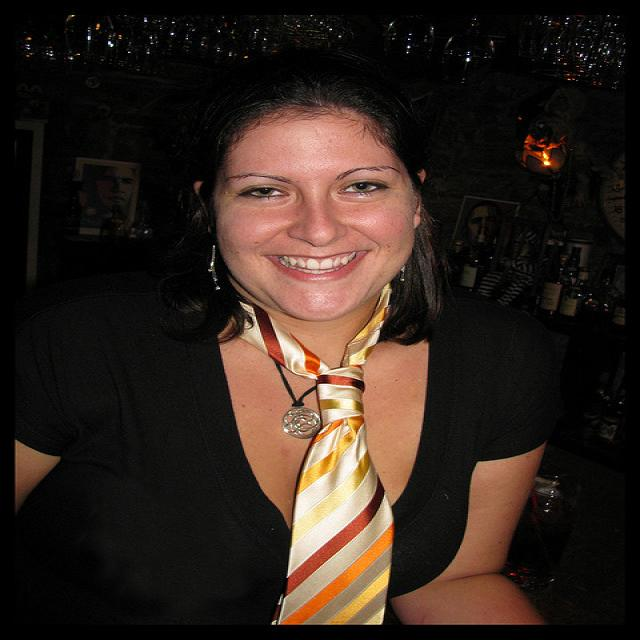Bottle: (446, 209, 520, 308), (585, 244, 640, 348), (530, 229, 590, 320)
People: (195, 80, 503, 640)
